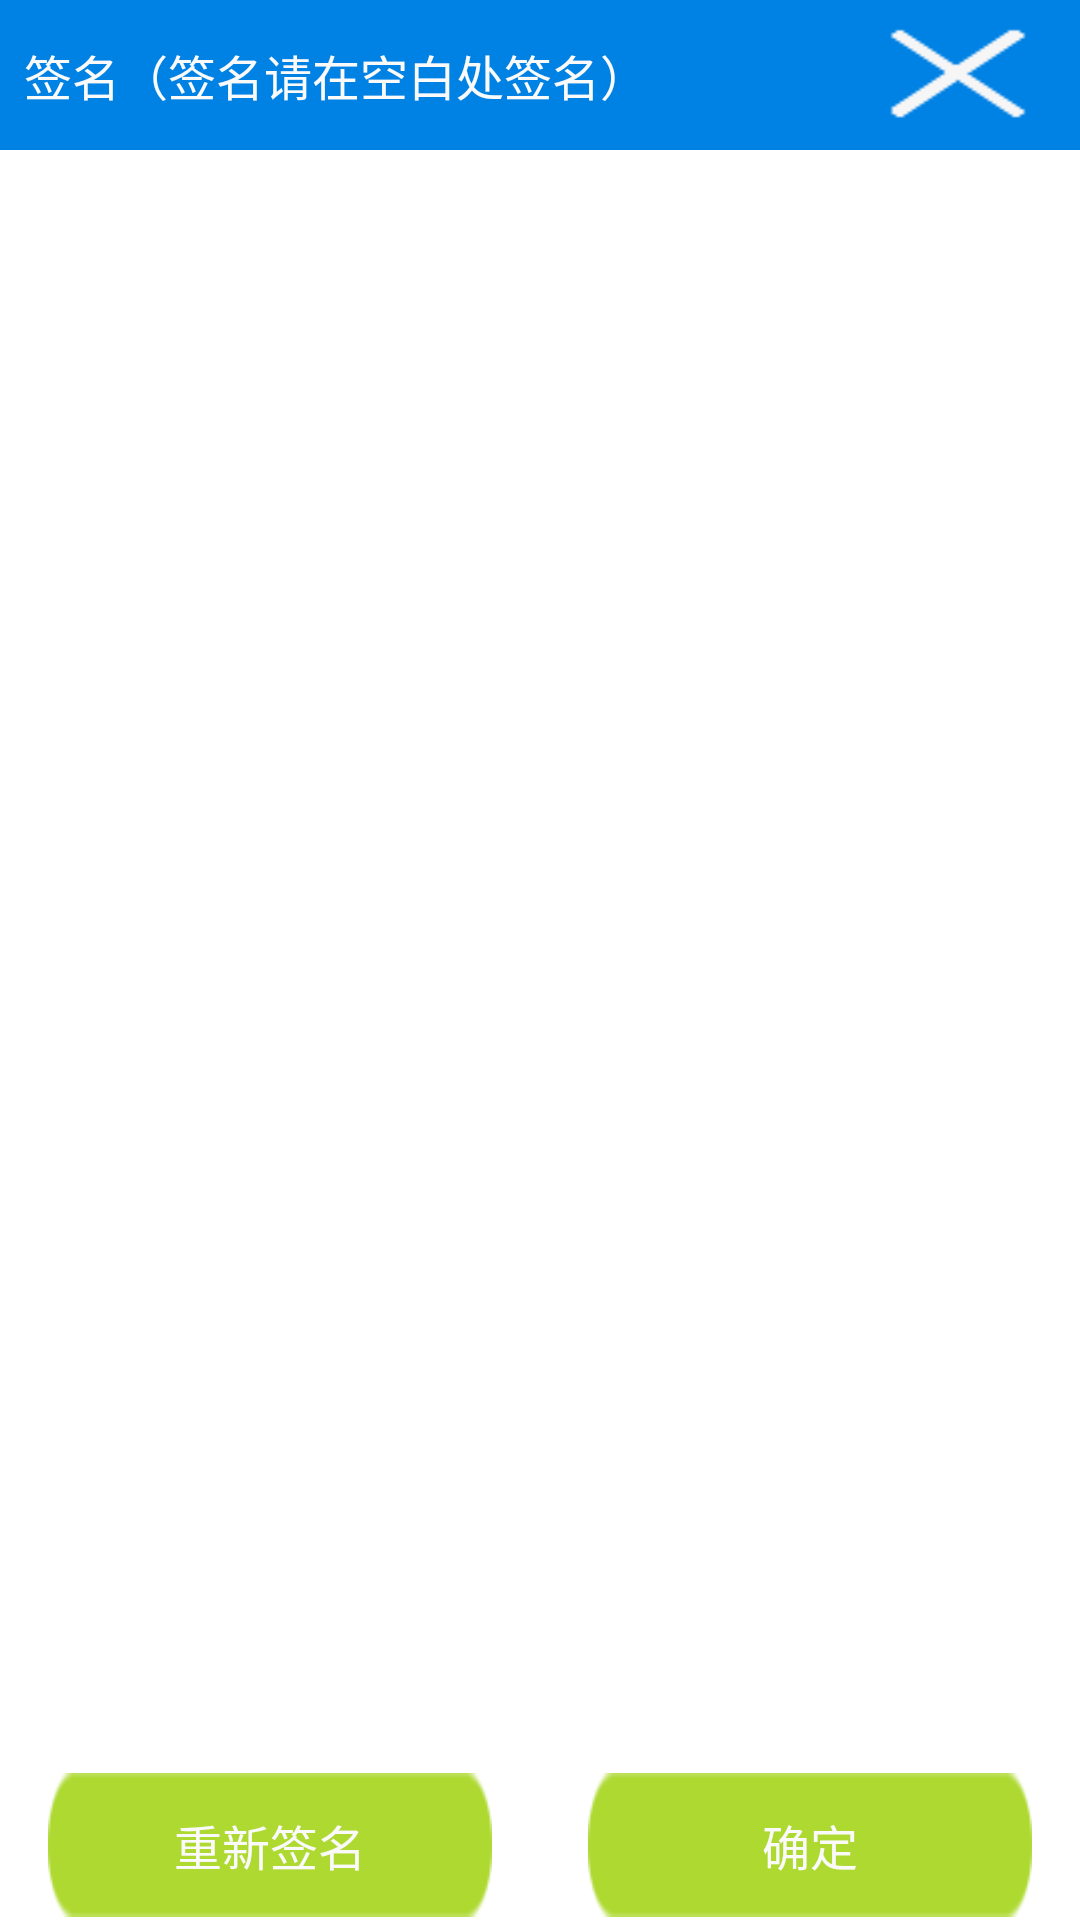

Icons on this 1080w x 1920h Android screen, each with the point to tap as (x,y):
del: (958,73)
